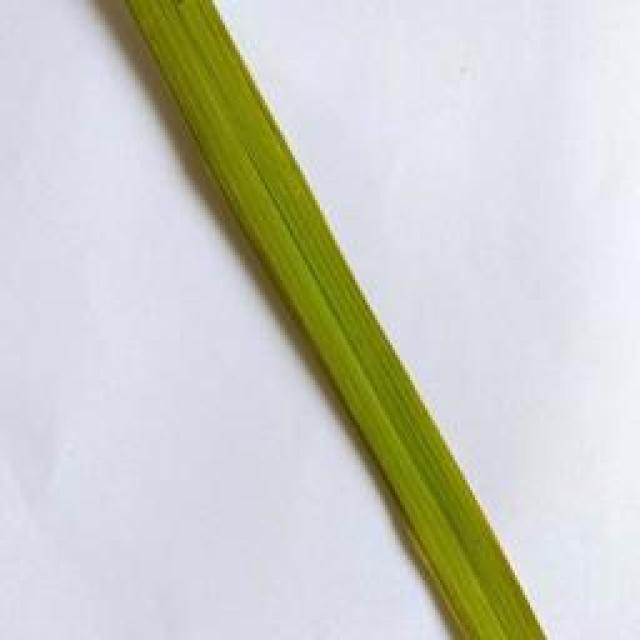Healthy-Plant: (122, 0, 556, 640)
